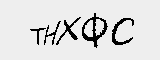Н: (41, 20, 59, 47)
С: (112, 16, 135, 48)
Т: (28, 25, 45, 47)
Ф: (79, 10, 107, 47)
Х: (56, 15, 79, 44)
